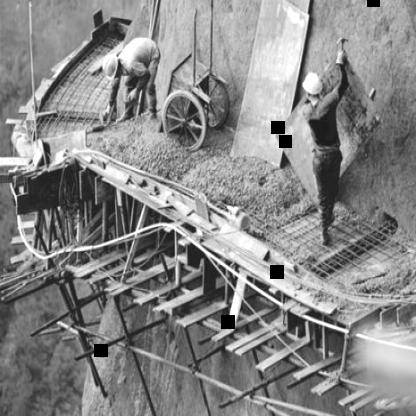helmet: (300, 72, 322, 102), (100, 54, 124, 80)
